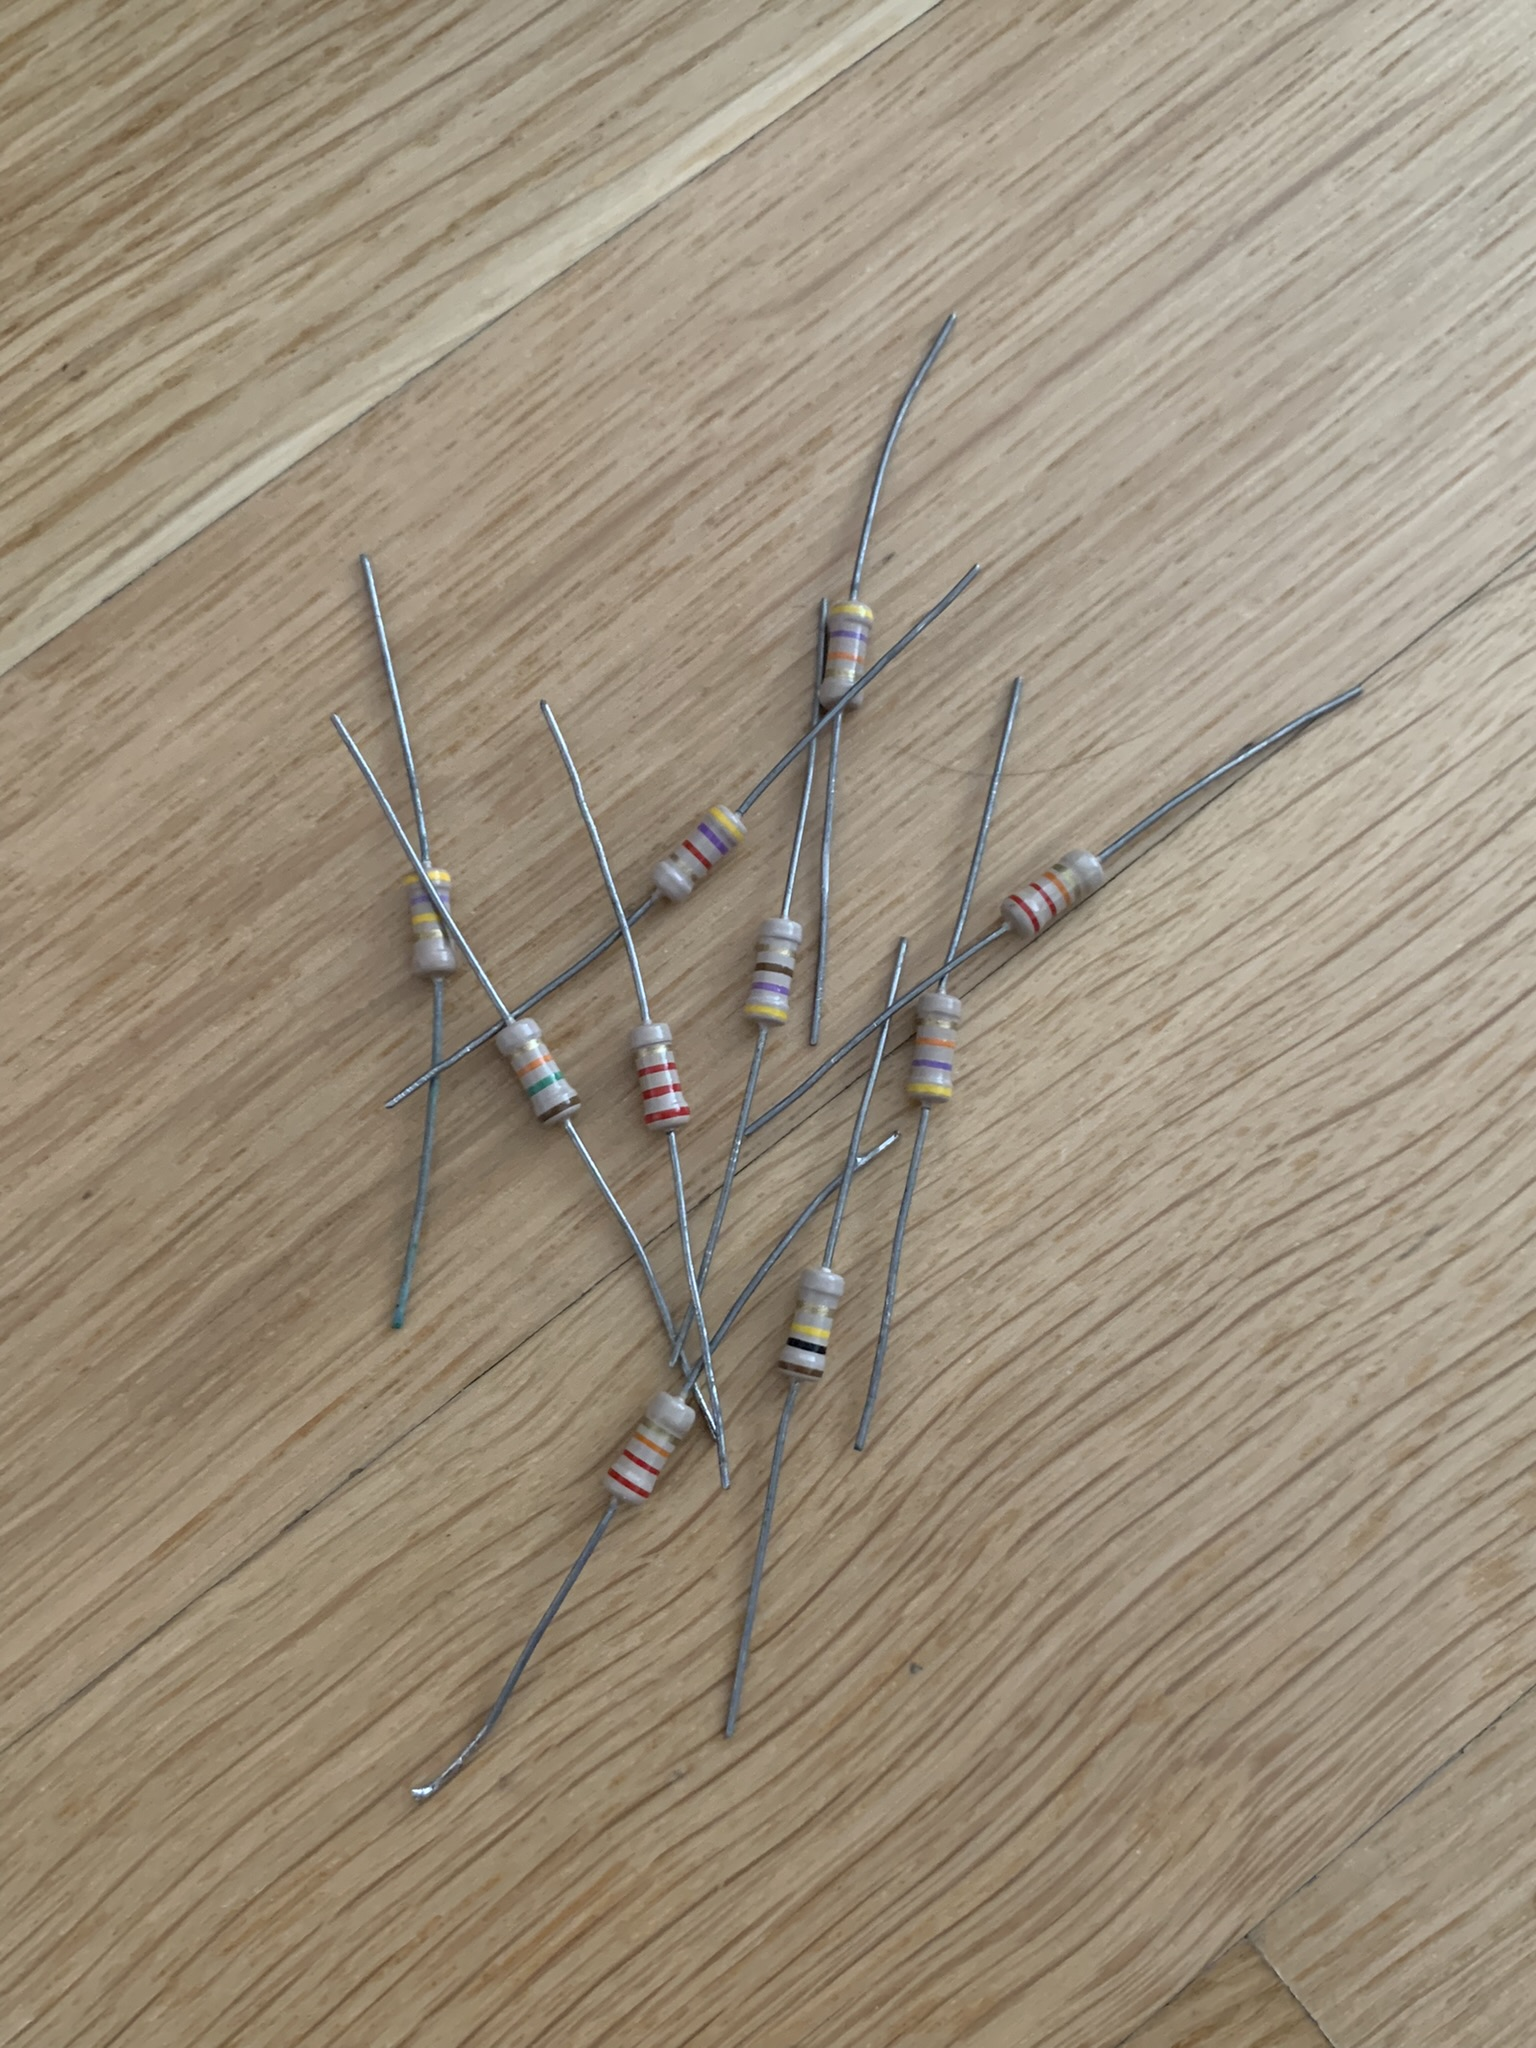resistor_thd: (600, 1390, 699, 1503), (494, 1019, 586, 1126), (1004, 848, 1104, 943), (655, 805, 745, 903), (628, 1022, 695, 1129), (781, 1268, 842, 1380), (400, 864, 458, 977), (905, 992, 962, 1108), (744, 919, 807, 1022), (823, 601, 874, 708)
